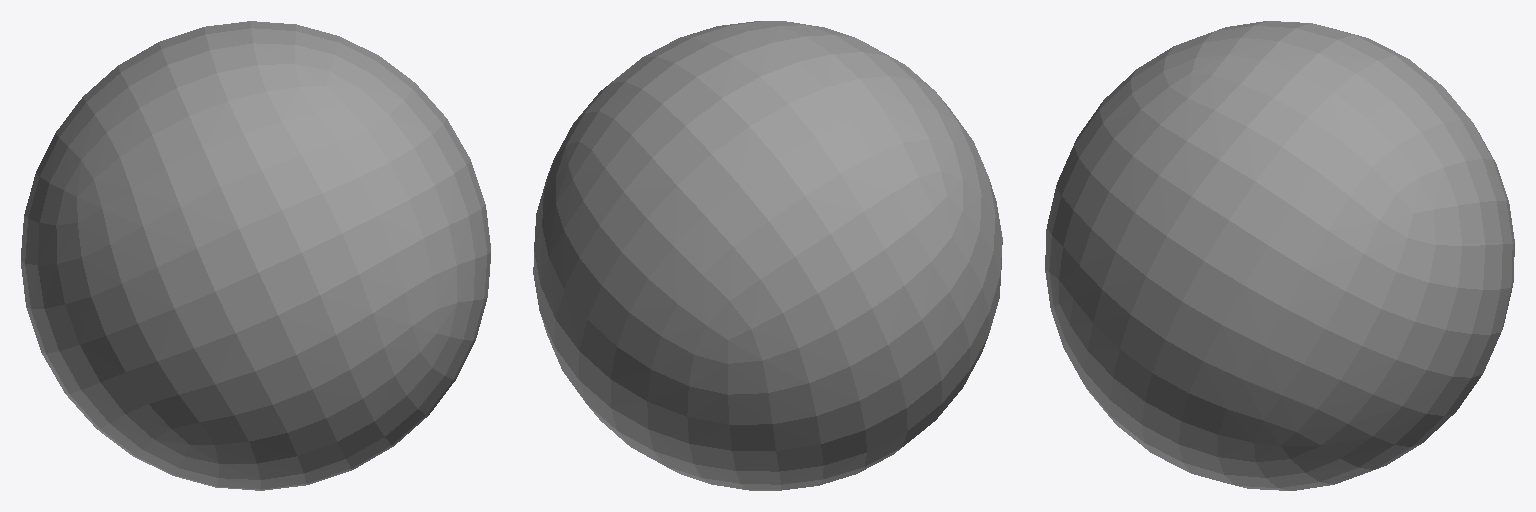
Rendered from sun2.obj.
3 views of the same model, side by side, from view 1: azimuth 30°, elevation 25°; view 2: azimuth 150°, elevation 25°; view 3: azimuth 270°, elevation 25° (orthographic).
Visible parts, largest first — view 1: Atmosphere_Cube.010; view 2: Atmosphere_Cube.010; view 3: Atmosphere_Cube.010.
Part boxes in pixels (x1,y1,x2,y2): Atmosphere_Cube.010: (21,21,490,490); Atmosphere_Cube.010: (533,21,1002,490); Atmosphere_Cube.010: (1045,21,1514,490).
Size of the model in its own units: 14.3 by 14.35 by 14.32.